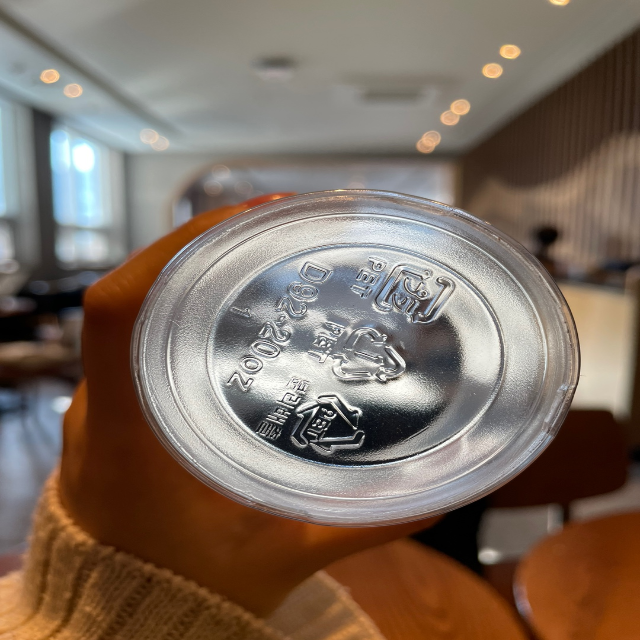pet: (253, 372, 368, 458), (345, 248, 458, 327), (304, 319, 414, 387)
